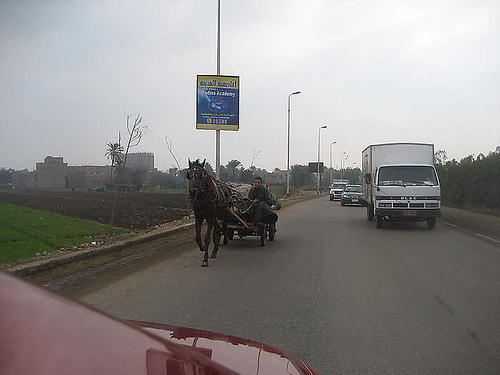horse: (185, 159, 233, 269)
